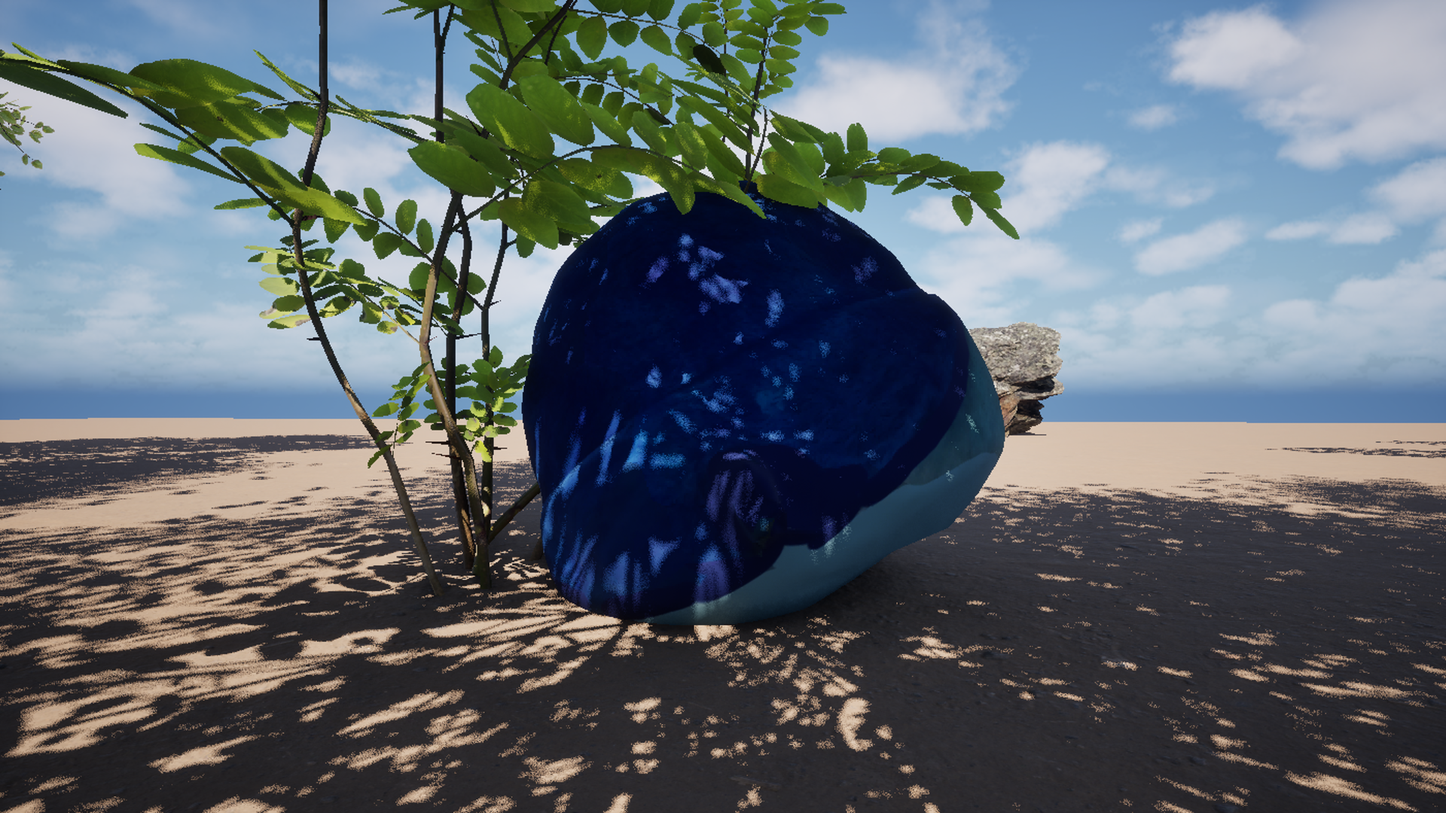Piplup: (273, 0, 1165, 813)
